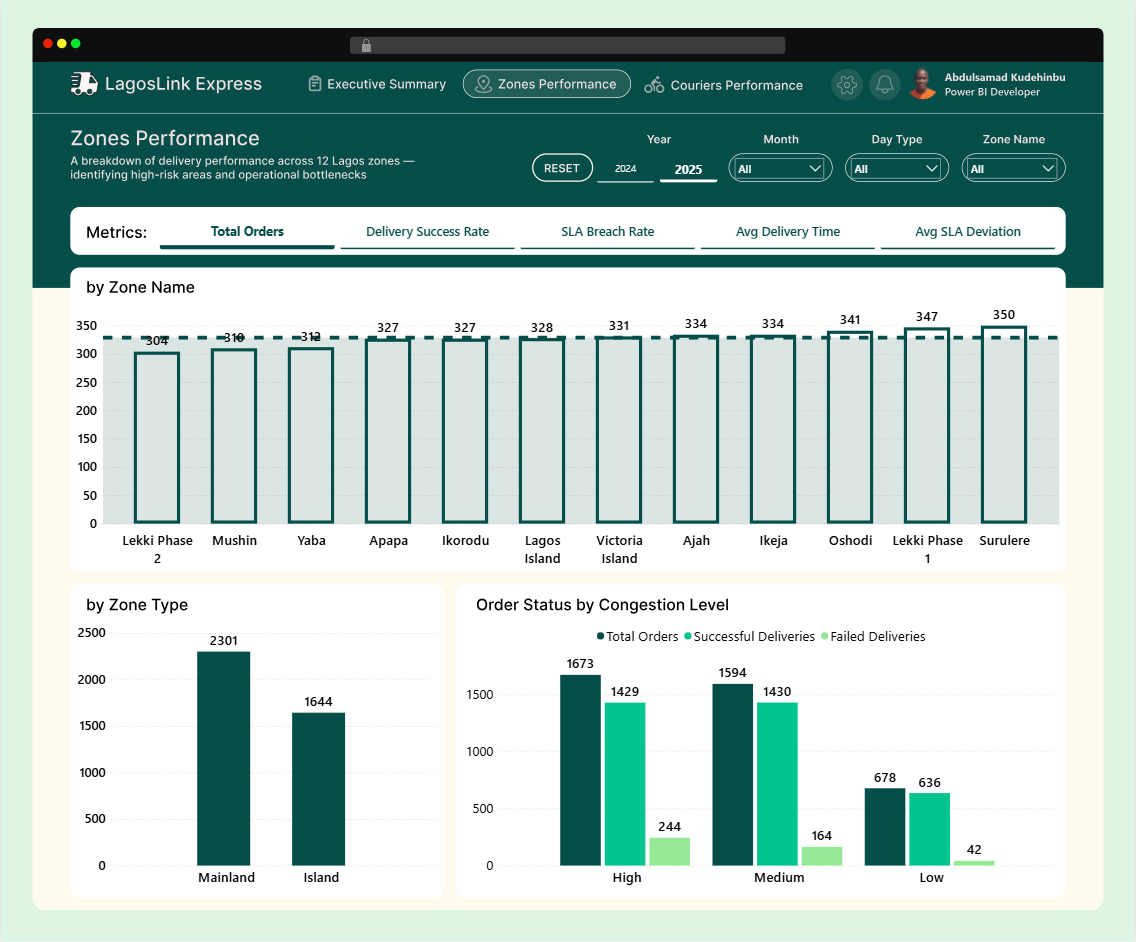

The page's visual inventory and layout, read from the dashboard file:
{"tool":"powerbi","page":{"name":"Zones Performance","canvas":[1800,1500],"ordinal":1},"visuals":[{"type":"slicer","fields":{"Values":["dim_date.month_name_short"]},"box":[1154.2,241.5,161.7,48.7],"z":5000},{"type":"advancedSlicerVisual","fields":{"Values":["dim_date.year"]},"box":[941.6,237,203.8,57.6],"z":6000},{"type":"slicer","fields":{"Values":["dim_date.day_type"]},"box":[1340,241.5,162.5,48.8],"z":7000},{"type":"slicer","fields":{"Values":["dim_zone.zone_name"]},"box":[1523.8,241.2,162.5,48.8],"z":8000},{"type":"advancedSlicerVisual","fields":{"Values":["Metrics Parameter.Metrics Parameter"]},"box":[248,329.8,1436.6,71.6],"z":9000},{"type":"clusteredColumnChart","fields":{"Y":["_Measures.TOTAL ORDERS"],"Category":["dim_zone.zone_name"]},"box":[112.5,470.4,1572.1,437.1],"z":10000},{"type":"clusteredColumnChart","fields":{"Y":["_Measures.TOTAL ORDERS"],"Category":["dim_zone.zone_type"]},"box":[115,984.2,580.3,432],"z":11000},{"type":"clusteredColumnChart","fields":{"Category":["dim_zone.congestion_level"],"Y":["_Measures.TOTAL ORDERS","_Measures.SUCCESSFUL DELIVERIES","_Measures.FAILED DELIVERIES"]},"box":[731.1,984.2,953.5,432],"z":12000},{"type":"actionButton","box":[465.2,104.8,263.3,53.7],"z":12001},{"type":"actionButton","box":[741.3,104.8,258.2,53.7],"z":12002},{"type":"actionButton","box":[1009.7,104.8,273.5,53.7],"z":12003},{"type":"actionButton","box":[835.9,237.7,109.9,58.8],"z":12004}]}

Visuals, with their boxes on the page's 1800x1500 design canvas (x1, y1, x2, y2). These are canvas units, not pixel positions in the 1136x942 screenshot, which may show the page scaled, cropped or inside an application window:
slicer - dim_date.month_name_short: l=1154, t=242, r=1316, b=290
advancedSlicerVisual - dim_date.year: l=942, t=237, r=1145, b=295
slicer - dim_date.day_type: l=1340, t=242, r=1502, b=290
slicer - dim_zone.zone_name: l=1524, t=241, r=1686, b=290
advancedSlicerVisual - Metrics Parameter.Metrics Parameter: l=248, t=330, r=1685, b=401
clusteredColumnChart - _Measures.TOTAL ORDERS x dim_zone.zone_name: l=112, t=470, r=1685, b=908
clusteredColumnChart - _Measures.TOTAL ORDERS x dim_zone.zone_type: l=115, t=984, r=695, b=1416
clusteredColumnChart - dim_zone.congestion_level x _Measures.TOTAL ORDERS: l=731, t=984, r=1685, b=1416
actionButton: l=465, t=105, r=728, b=158
actionButton: l=741, t=105, r=1000, b=158
actionButton: l=1010, t=105, r=1283, b=158
actionButton: l=836, t=238, r=946, b=296
